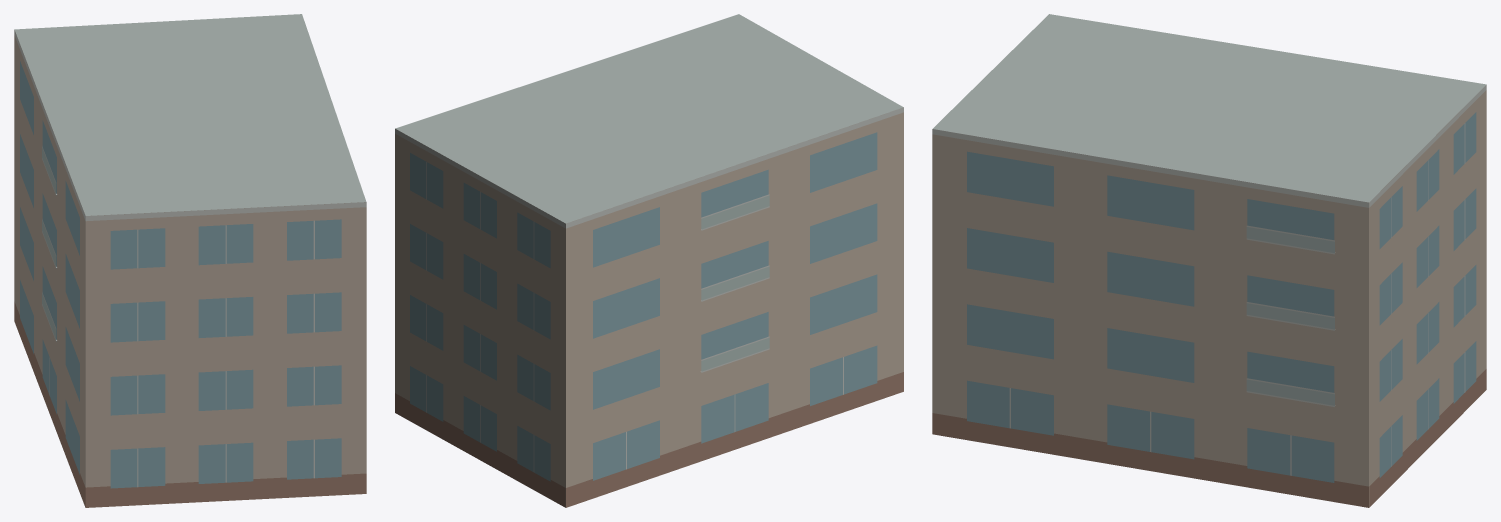
Rendered from survey-upis-32846381.glb.
3 views of the same model, side by side, from view 1: azimuth 30°, elevation 25°; view 2: azimuth 150°, elevation 25°; view 3: azimuth 270°, elevation 25° (orthographic). The views are drawn at different scales.
Parts seen in each view (by area): view 1: survey-upis-32846381.tmp; view 2: survey-upis-32846381.tmp; view 3: survey-upis-32846381.tmp.
Part boxes in pixels (<box>): survey-upis-32846381.tmp: <box>14,14,366,507</box>; survey-upis-32846381.tmp: <box>395,14,903,507</box>; survey-upis-32846381.tmp: <box>932,14,1486,507</box>.
Size of the model in its own units: 18.29 by 13.8 by 22.71.
